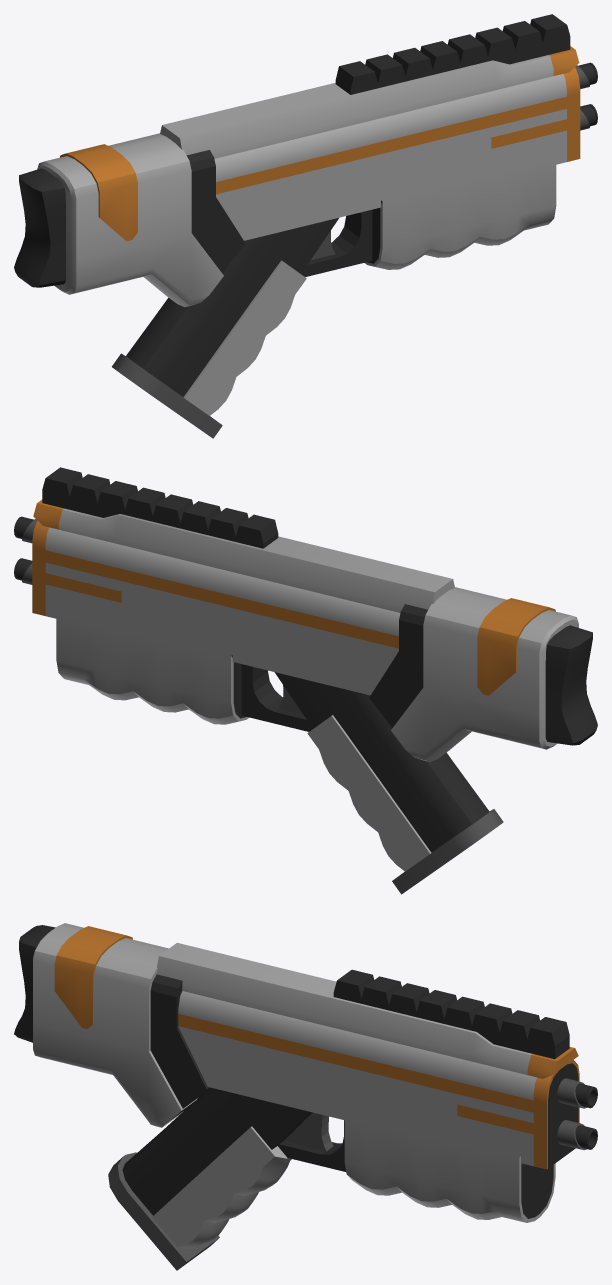
Rendered from littleGun.gltf.
3 renders of one model, top to bottom at view 1: azimuth 30°, elevation 25°; view 2: azimuth 150°, elevation 25°; view 3: azimuth 330°, elevation 25°, orthographic.
Visible parts, largest first — view 1: Pistol_3; view 2: Pistol_3; view 3: Pistol_3.
Boxes of the visible parts, x1,y1,x2,y2 form: Pistol_3: (14,14,597,438); Pistol_3: (14,467,597,894); Pistol_3: (14,923,597,1270).
Size of the model in its own units: 0.9094 by 0.4864 by 0.114.
